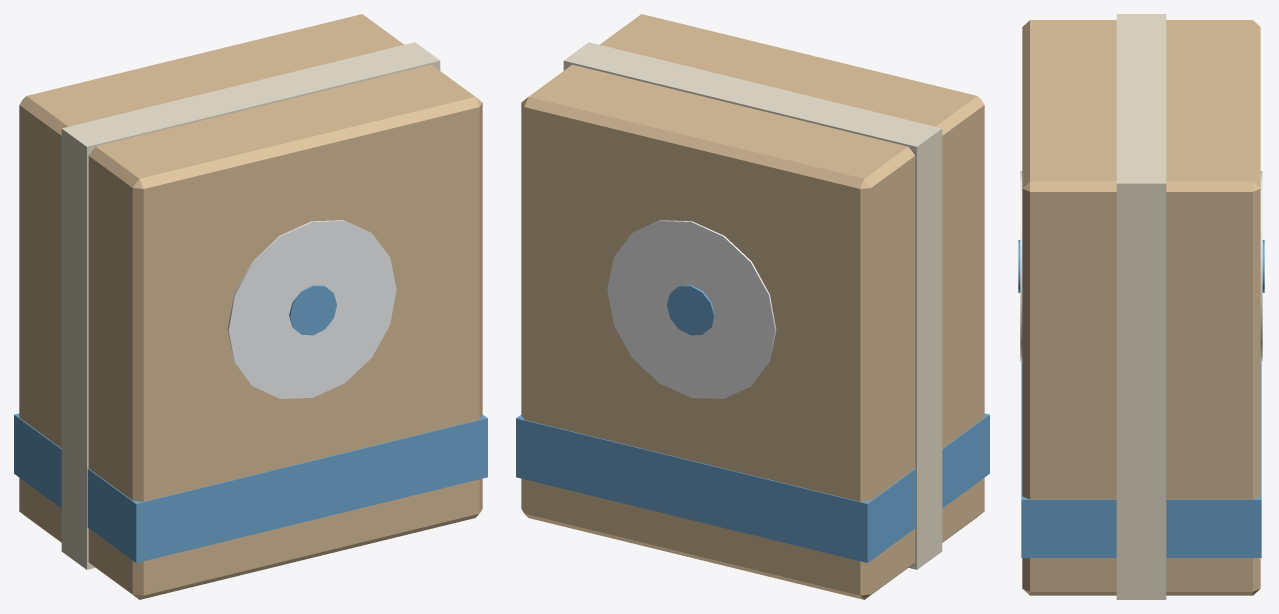
File: ventilador_mesa_caixa_medio.glb
The picture shows the model from 3 angles, left to right: view 1: azimuth 30°, elevation 25°; view 2: azimuth 150°, elevation 25°; view 3: azimuth 270°, elevation 25°; orthographic projection.
Visible parts, largest first — view 1: corpo; view 2: corpo; view 3: corpo.
Part boxes in pixels (x1,y1,x2,y2): corpo: [14, 14, 487, 599]; corpo: [516, 14, 989, 599]; corpo: [1018, 14, 1264, 599].
Bounding box in the file's own units: 0.404 × 0.462 × 0.248.
